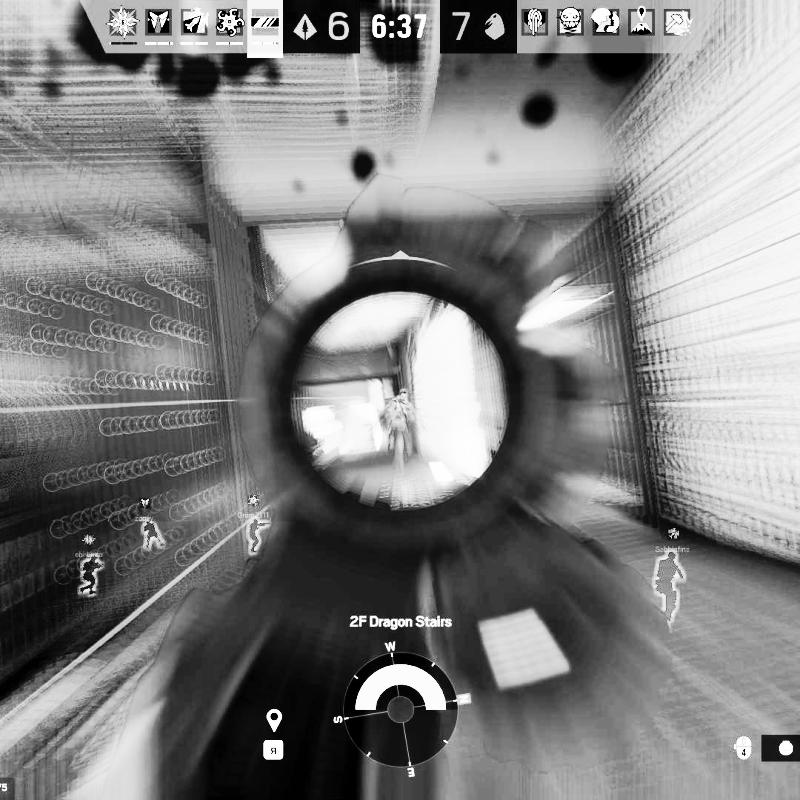Character: (383, 389, 418, 474)
Friend_label: (654, 526, 693, 555), (236, 492, 272, 519), (74, 532, 107, 560), (134, 496, 157, 522)
Head: (398, 390, 408, 403)
